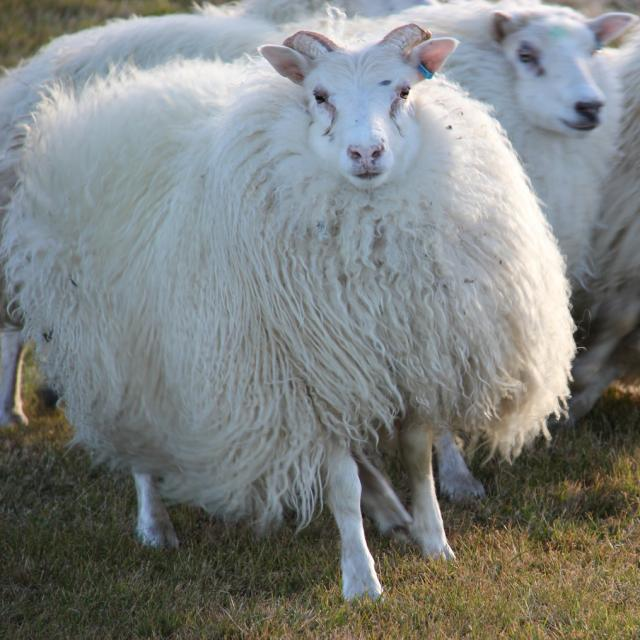Sheep: (0, 0, 590, 602)
